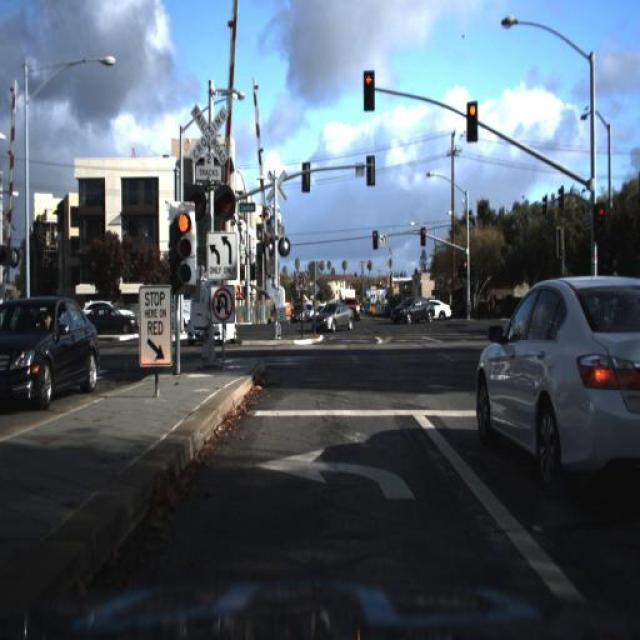car: (472, 271, 638, 497), (470, 270, 639, 488), (0, 297, 100, 408), (76, 301, 133, 337), (386, 292, 436, 332), (82, 298, 139, 333), (186, 306, 238, 344), (388, 292, 438, 328), (313, 298, 356, 334), (305, 304, 354, 334), (434, 290, 457, 325)
trafficLight: (630, 302, 640, 352)
trafficLight-RedLeft: (170, 201, 199, 290), (172, 207, 190, 268), (592, 200, 608, 238), (465, 99, 479, 139), (467, 101, 479, 138), (370, 225, 380, 255), (418, 218, 428, 244), (420, 220, 430, 246), (458, 256, 468, 282), (371, 226, 381, 250), (460, 257, 470, 274)
trafficLight-Yellow: (360, 64, 376, 100), (363, 71, 375, 111)
